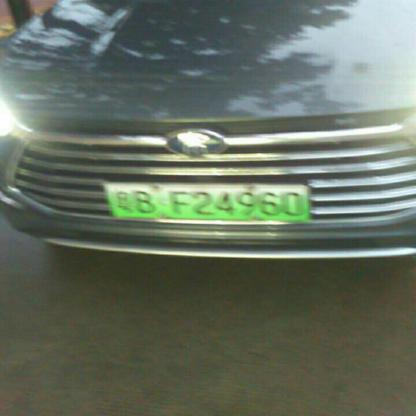lp: (105, 183, 309, 222)
